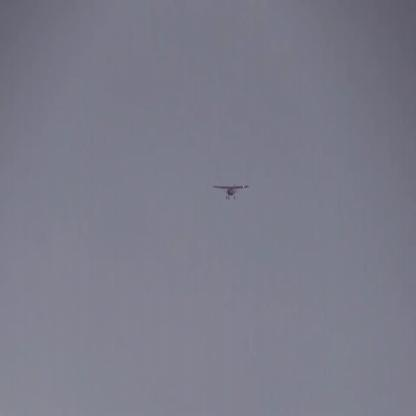CIV_Plane: (213, 177, 248, 203)
